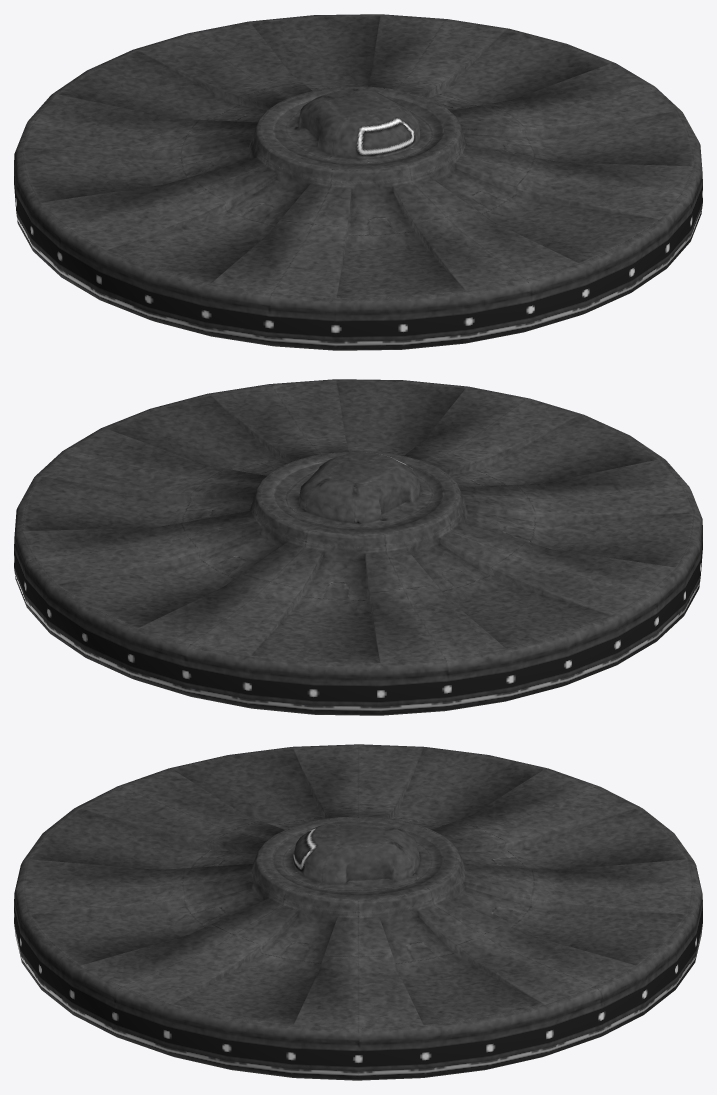
The model's file is Ufo.dae.
3 views of the same model, one above another, from view 1: azimuth 30°, elevation 25°; view 2: azimuth 150°, elevation 25°; view 3: azimuth 270°, elevation 25° (orthographic).
Visible parts, largest first — view 1: ufoNode; view 2: ufoNode; view 3: ufoNode.
Part boxes in pixels (x1,y1,x2,y2): ufoNode: (14,14,702,350); ufoNode: (14,379,702,715); ufoNode: (14,744,702,1080).
Size of the model in its own units: 1.99 by 1.99 by 0.4829.
1 material, 1 textured.
